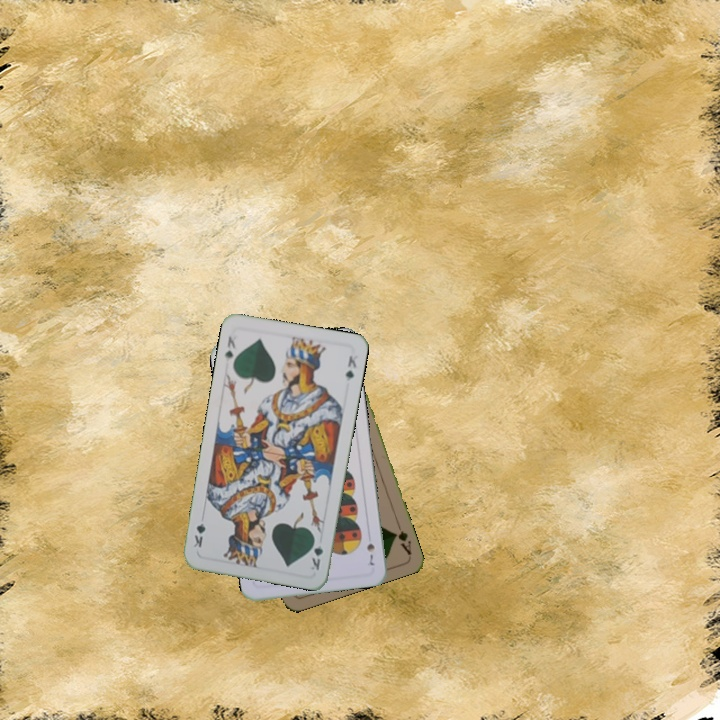GA: (390, 518, 414, 558)
GK: (307, 533, 325, 574), (220, 332, 239, 362)
S7: (363, 539, 377, 568)
